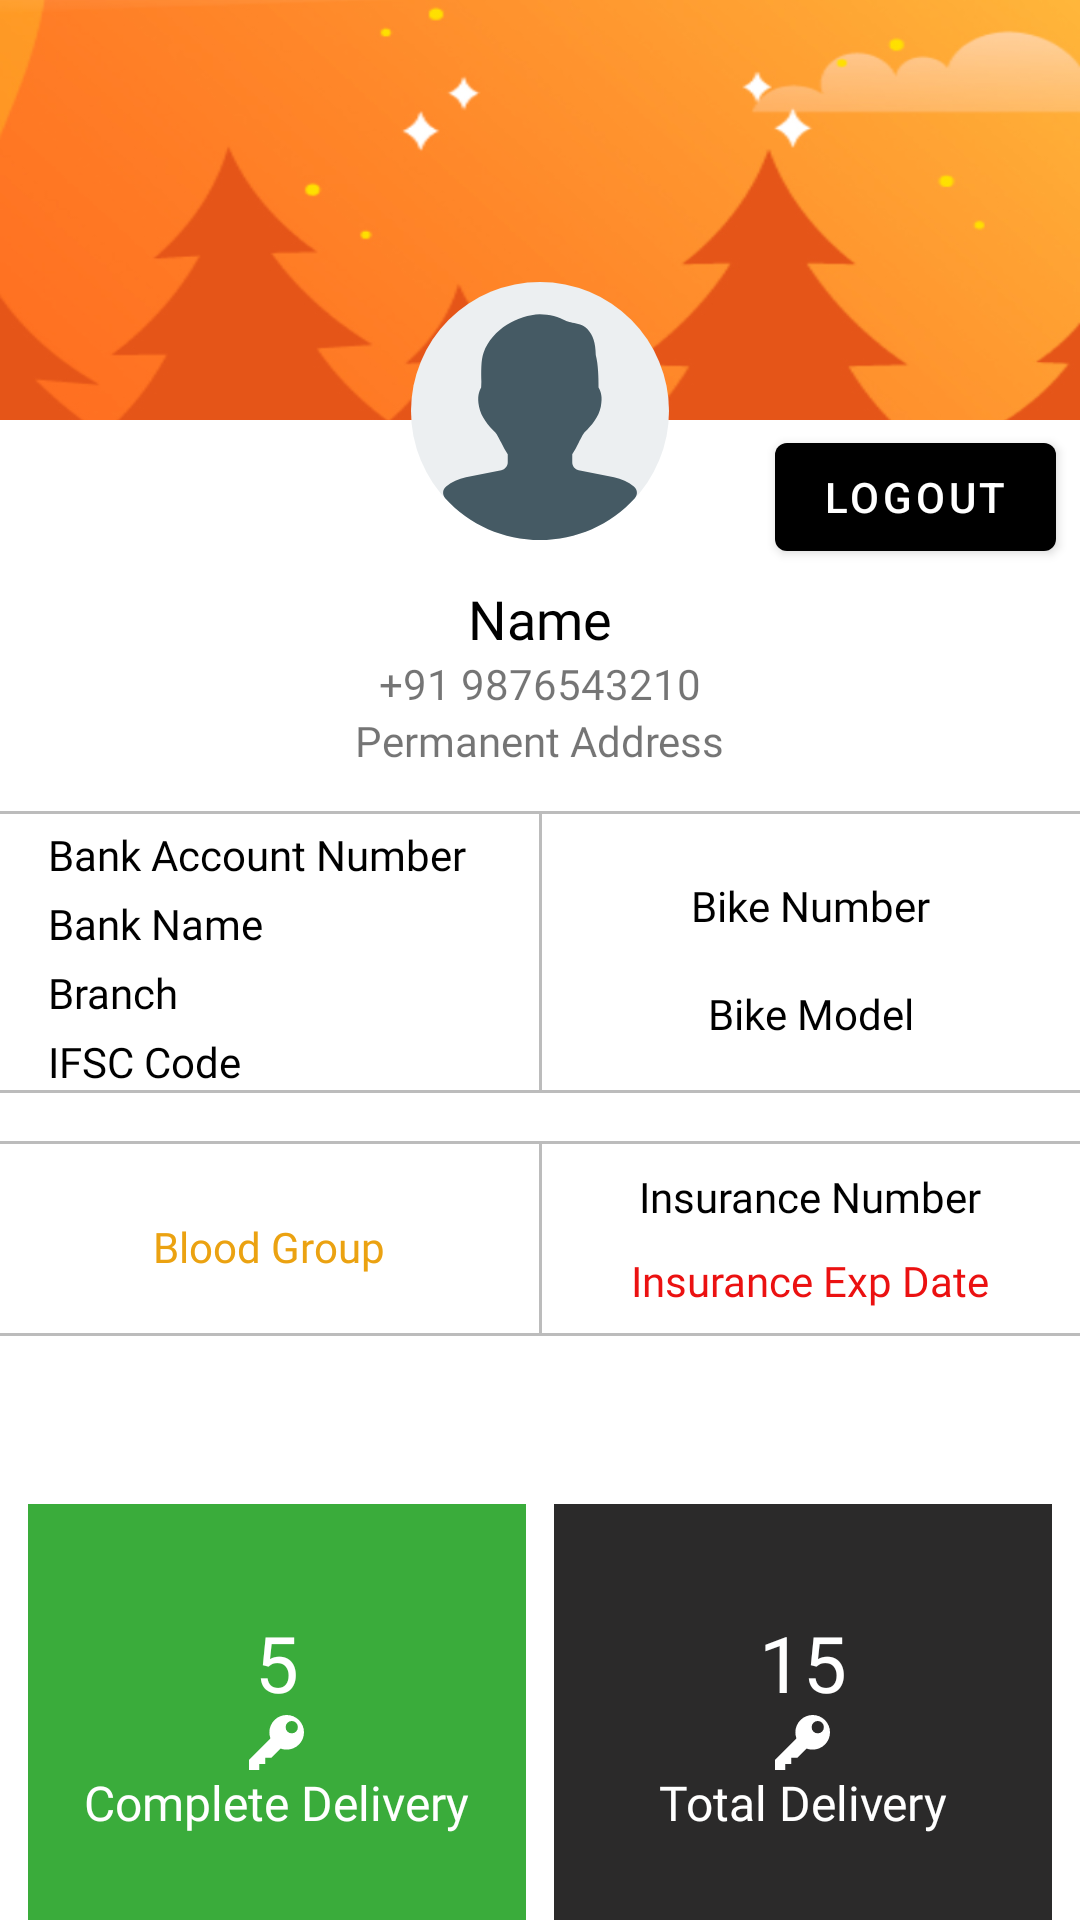

Named icons in this screenshot (1080w x 1920h) and their centers, (x,y):
key: (276,1742), (802,1742)
